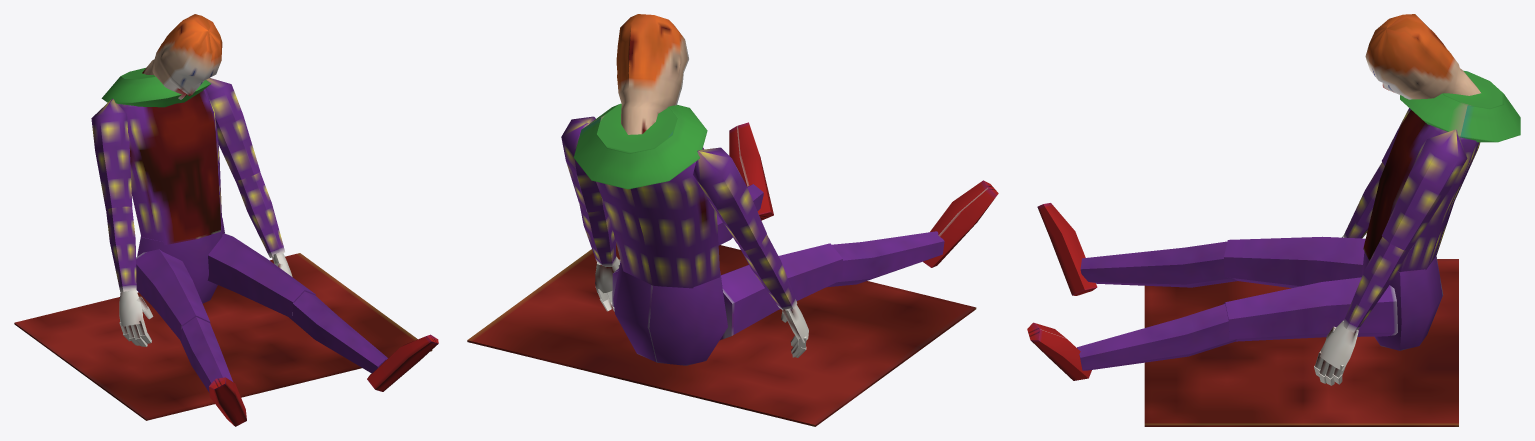
Rendered from clown_slumped.obj.
3 renders of one model, left to right at view 1: azimuth 30°, elevation 25°; view 2: azimuth 150°, elevation 25°; view 3: azimuth 270°, elevation 25°, orthographic. The views are drawn at different scales.
Visible parts, largest first — view 1: clown_slumped; view 2: clown_slumped; view 3: clown_slumped.
Part boxes in pixels (bbox=[...]): clown_slumped: bbox=[14, 14, 438, 426]; clown_slumped: bbox=[467, 14, 998, 426]; clown_slumped: bbox=[1027, 14, 1520, 426].
Bounding box in the file's own units: 1 × 0.9473 × 1.26.
Materials: 1 (1 with a texture image).
